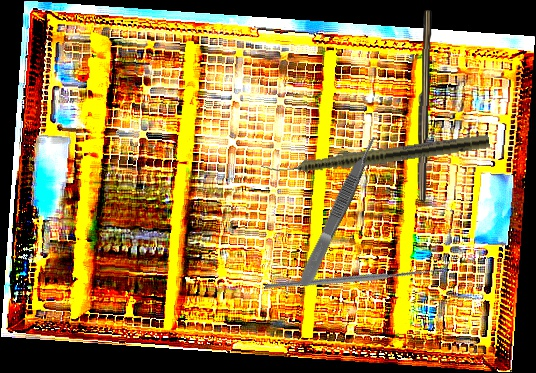Handpiece: (260, 131, 491, 181)
Hook Surgical: (264, 193, 451, 355)
Scalpel Handle: (414, 9, 433, 203)
Tissue Forceps: (295, 134, 383, 289)
